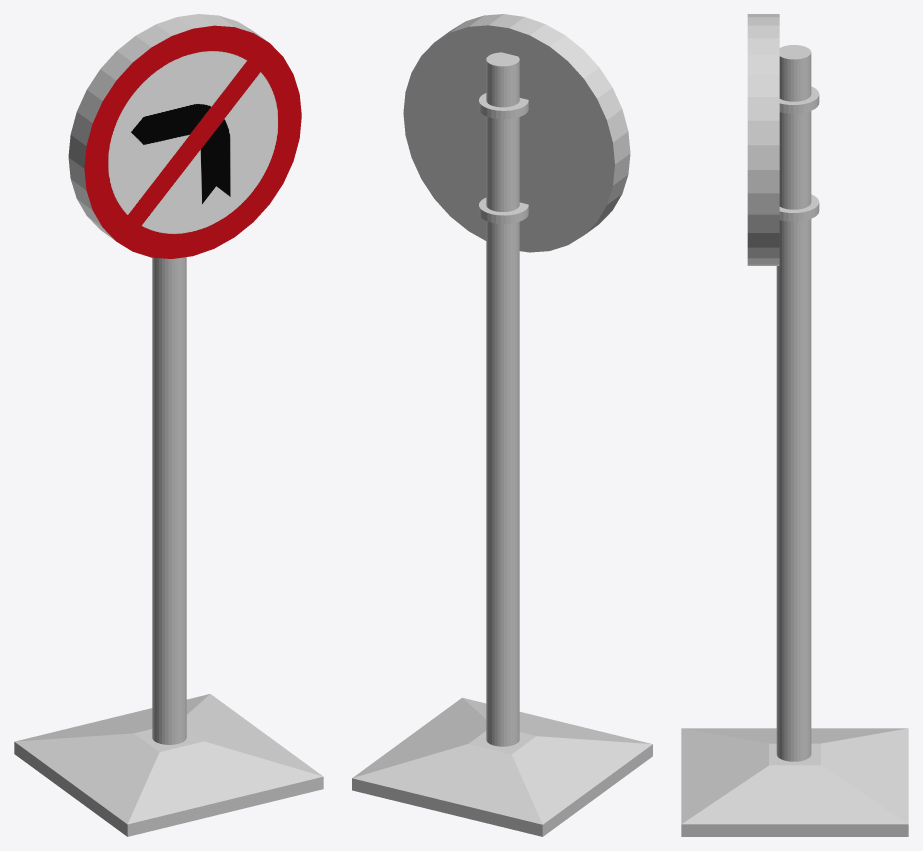
Rendered from sola_donulmez.dae.
3 views of the same model, side by side, from view 1: azimuth 30°, elevation 25°; view 2: azimuth 150°, elevation 25°; view 3: azimuth 270°, elevation 25° (orthographic). The views are drawn at different scales.
Parts seen in each view (by area): view 1: Cylinder.001; view 2: Cylinder.001; view 3: Cylinder.001.
Part boxes in pixels (x1,y1,x2,y2): Cylinder.001: (14, 14, 323, 836); Cylinder.001: (352, 14, 652, 836); Cylinder.001: (681, 14, 908, 836).
Size of the model in its own units: 0.83 by 0.7483 by 2.77.
Materials: 2 (1 with a texture image).
